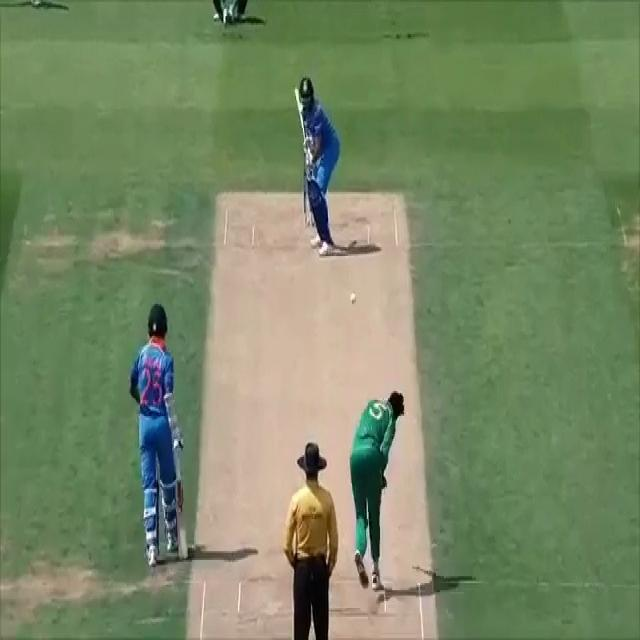ball: (350, 293, 358, 306)
